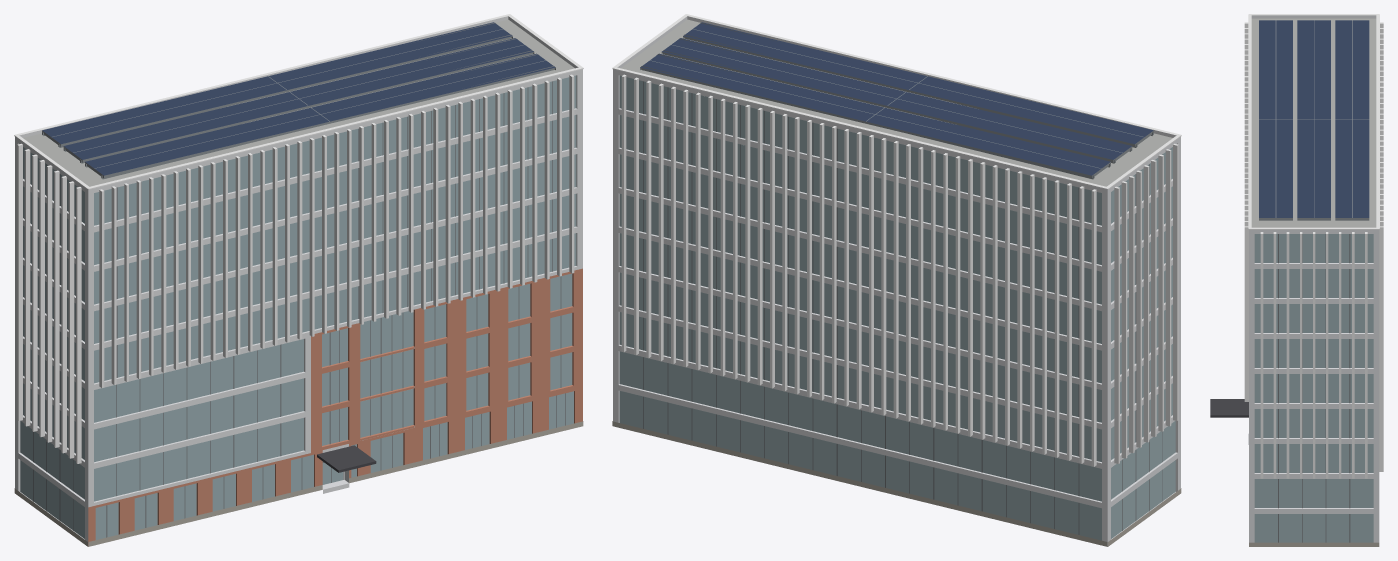
3 views of the same model, side by side, from view 1: azimuth 30°, elevation 25°; view 2: azimuth 150°, elevation 25°; view 3: azimuth 270°, elevation 25° (orthographic). The views are drawn at different scales.
Parts seen in each view (by area): view 1: b743633083__glass, b743633083__trim, b743633083__pvPanel, b743633083__wall, b743633083__wall2, b743633083__frame, b743633083__pvFrame, b743633083__roof, b743633083__base, b743633083__parapet, b743633083__canopy; view 2: b743633083__glass, b743633083__trim, b743633083__wall, b743633083__pvPanel, b743633083__frame, b743633083__pvFrame, b743633083__roof, b743633083__base, b743633083__parapet; view 3: b743633083__glass, b743633083__pvPanel, b743633083__trim, b743633083__wall, b743633083__roof, b743633083__frame, b743633083__pvFrame, b743633083__parapet, b743633083__canopy, b743633083__base.
Part boxes in pixels (x1,y1,x2,y2): b743633083__glass: (20, 75, 576, 539); b743633083__trim: (14, 14, 583, 463); b743633083__pvPanel: (42, 22, 555, 175); b743633083__wall: (15, 71, 582, 546); b743633083__wall2: (88, 268, 582, 546); b743633083__frame: (33, 81, 565, 537); b743633083__pvFrame: (42, 22, 555, 179); b743633083__roof: (23, 19, 574, 546); b743633083__base: (14, 421, 583, 546); b743633083__parapet: (15, 16, 582, 191); b743633083__canopy: (317, 445, 376, 472); b743633083__glass: (619, 75, 1175, 540); b743633083__trim: (612, 14, 1181, 466); b743633083__wall: (613, 71, 1180, 546); b743633083__pvPanel: (640, 22, 1153, 175); b743633083__frame: (643, 81, 1162, 534); b743633083__pvFrame: (640, 22, 1153, 179); b743633083__roof: (621, 19, 1172, 186); b743633083__base: (612, 421, 1181, 546); b743633083__parapet: (613, 16, 1180, 191); b743633083__glass: (1254, 234, 1373, 542); b743633083__pvPanel: (1259, 20, 1369, 217); b743633083__trim: (1244, 14, 1383, 478); b743633083__wall: (1249, 231, 1379, 542); b743633083__roof: (1251, 18, 1376, 227); b743633083__frame: (1278, 234, 1350, 542); b743633083__pvFrame: (1259, 20, 1369, 220); b743633083__parapet: (1249, 15, 1379, 231); b743633083__canopy: (1210, 399, 1248, 417); b743633083__base: (1249, 542, 1379, 546).
Size of the model in its own units: 53.46 by 37.12 by 17.96.
